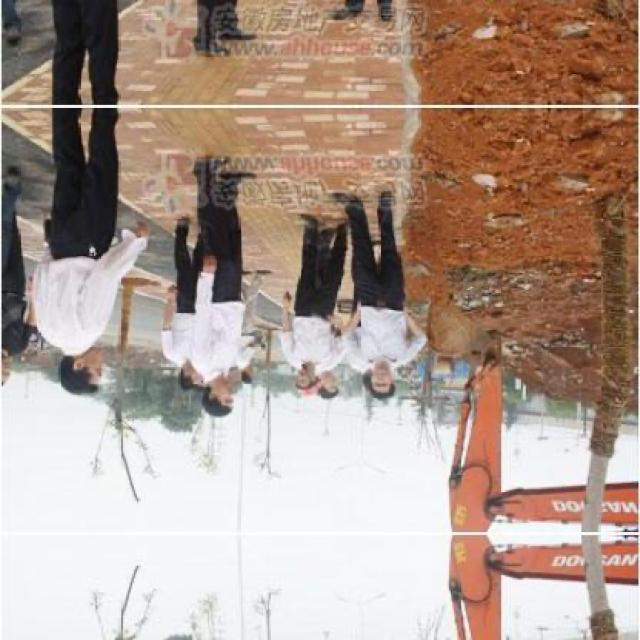sin casco: (41, 332, 107, 418), (362, 349, 411, 402), (198, 367, 250, 416)
